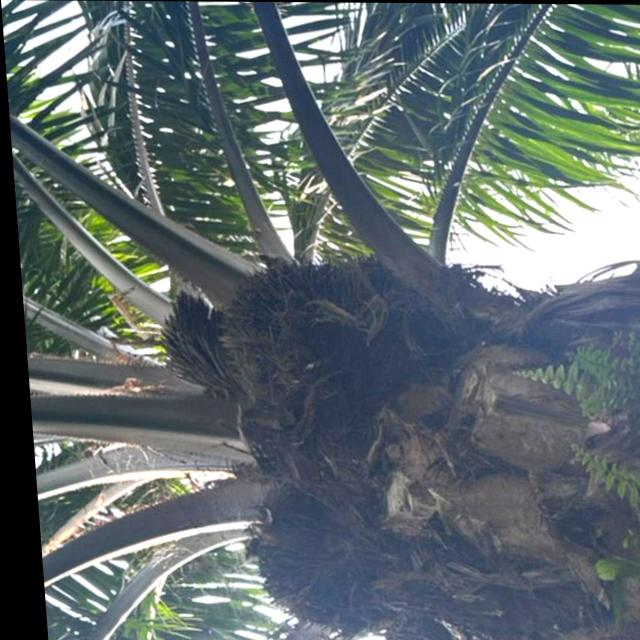almost: (202, 252, 408, 417)
